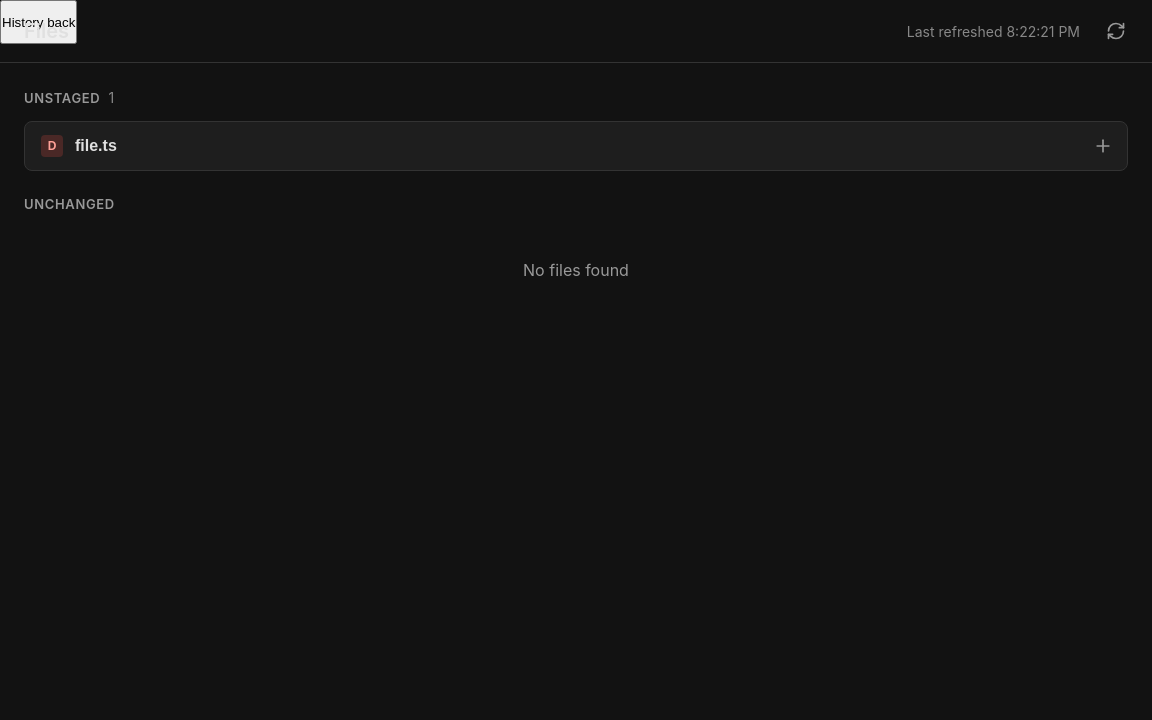
Scenario: FilesPage › opens a deleted file read-only in the editor
Click the button with class "changes-file-entry" at [96, 145], box [25,122,1079,170]
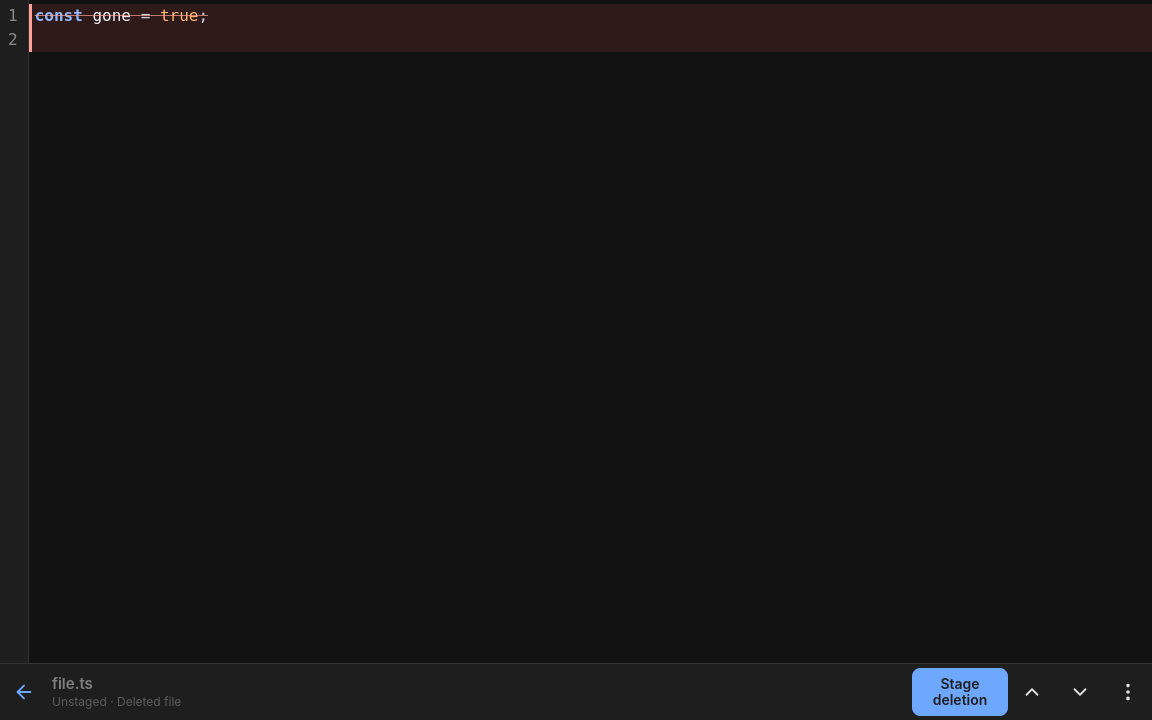
Expected: the element with class "changes-diff-view" is shown
Expected: the element with class "cm-changedLine--deleted" showing "const gone = true;" is shown, [29,4,1151,28]
Expected: the field with class "cm-content" reads "const gone = true;", [29,4,1151,52]
